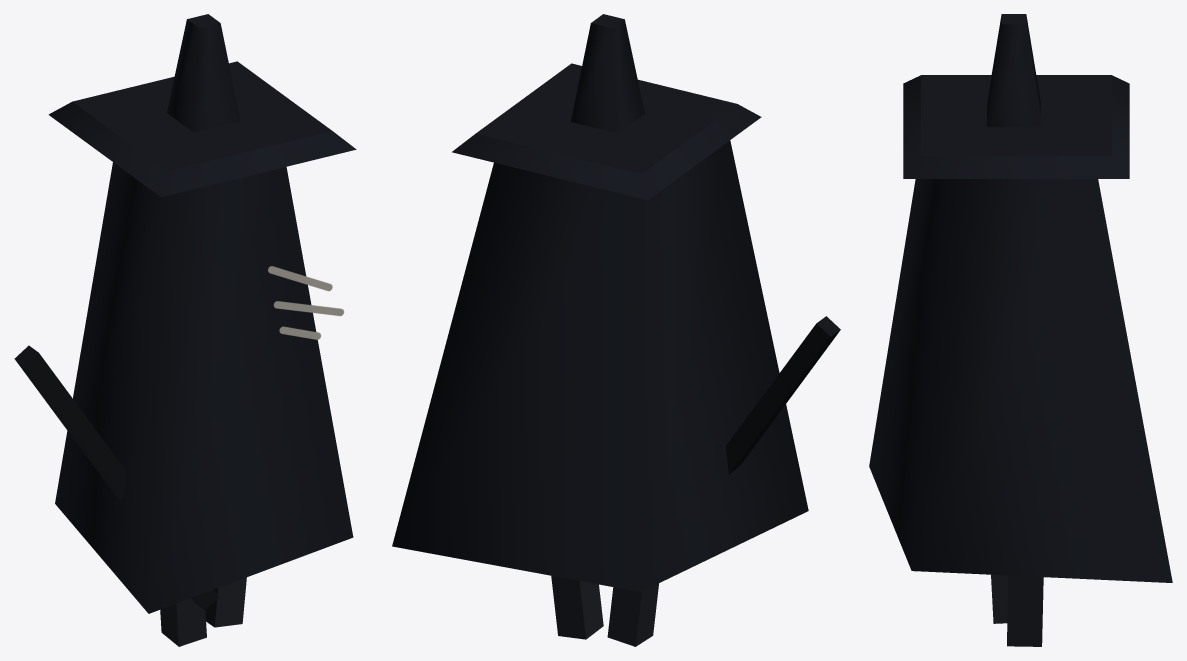
File: character-lab-ronin-v1.glb
3 views of the same model, side by side, from view 1: azimuth 30°, elevation 25°; view 2: azimuth 150°, elevation 25°; view 3: azimuth 270°, elevation 25° (orthographic).
Parts seen in each view (by area): view 1: Ronin; view 2: Ronin; view 3: Ronin.
Boxes of the visible parts, x1,y1,x2,y2 form: Ronin: (14, 14, 356, 646); Ronin: (392, 14, 840, 646); Ronin: (869, 14, 1172, 646).
Bounding box in the file's own units: 3.15 × 5.39 × 2.43.
5 materials, 1 textured.
